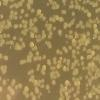white: (7, 85, 16, 96), (14, 42, 23, 52), (88, 0, 100, 7), (30, 25, 39, 34), (44, 20, 52, 30), (0, 65, 8, 75), (50, 72, 61, 79), (58, 91, 66, 100), (54, 15, 64, 22), (9, 78, 16, 88), (74, 0, 80, 11), (28, 19, 34, 30), (55, 48, 63, 56), (32, 80, 40, 88), (72, 58, 80, 66), (72, 68, 80, 76), (58, 84, 66, 92), (77, 38, 86, 45), (64, 90, 70, 100), (45, 41, 52, 49), (62, 22, 70, 29), (85, 21, 92, 29), (6, 41, 14, 48), (85, 37, 92, 45), (5, 93, 13, 100), (64, 80, 72, 87), (68, 86, 75, 94), (90, 73, 98, 80), (52, 4, 61, 10), (49, 17, 58, 23), (18, 60, 27, 66), (33, 56, 42, 62), (91, 45, 100, 51), (91, 64, 97, 73), (93, 53, 100, 60), (79, 31, 86, 38), (22, 85, 29, 92), (36, 8, 42, 16), (57, 29, 63, 37), (89, 18, 97, 24), (45, 58, 51, 66), (84, 48, 92, 54), (29, 75, 35, 83), (42, 30, 47, 39), (64, 34, 73, 39), (27, 55, 32, 64), (52, 56, 57, 65), (2, 0, 8, 7), (61, 9, 67, 16), (60, 0, 66, 7), (94, 7, 100, 14), (20, 30, 27, 36), (40, 16, 47, 22), (35, 50, 41, 57), (31, 45, 38, 51), (56, 59, 63, 65), (85, 54, 92, 60), (93, 29, 100, 35), (27, 68, 34, 74), (88, 62, 95, 68), (90, 90, 97, 96), (0, 40, 5, 48), (29, 41, 34, 49), (49, 0, 57, 5), (69, 0, 73, 10), (81, 65, 89, 70), (65, 57, 70, 65), (2, 80, 7, 88), (18, 82, 23, 90), (87, 69, 92, 77), (30, 9, 36, 15), (24, 12, 30, 18), (13, 3, 19, 9), (12, 15, 18, 21), (86, 12, 92, 18), (84, 8, 90, 14), (32, 16, 38, 22), (78, 20, 84, 26), (80, 60, 86, 66), (80, 56, 86, 62), (92, 34, 98, 40), (66, 64, 70, 73), (40, 70, 46, 76), (41, 64, 47, 70), (39, 78, 45, 84), (34, 88, 40, 94), (74, 80, 80, 86), (87, 93, 93, 99), (94, 94, 100, 100), (96, 68, 100, 77), (20, 8, 25, 15), (18, 1, 23, 8), (29, 32, 34, 39), (74, 32, 79, 39), (44, 83, 49, 90), (7, 19, 11, 27), (1, 26, 5, 34), (72, 39, 76, 47), (62, 65, 66, 73), (36, 64, 40, 72), (76, 86, 80, 94), (45, 2, 50, 8), (28, 0, 34, 5), (18, 38, 24, 43), (47, 34, 52, 40), (35, 34, 41, 39), (68, 30, 74, 35), (63, 47, 68, 53), (4, 55, 9, 61), (42, 54, 47, 60), (57, 55, 63, 60), (62, 57, 67, 63), (25, 93, 30, 99), (88, 80, 93, 86), (94, 88, 99, 94), (22, 42, 26, 49), (22, 20, 29, 24), (72, 18, 76, 25), (29, 50, 33, 57), (50, 66, 57, 70), (8, 0, 17, 3), (9, 11, 14, 16), (9, 16, 14, 21), (72, 54, 77, 59), (52, 80, 57, 85), (37, 95, 42, 100), (37, 91, 42, 96), (78, 76, 83, 81), (0, 14, 4, 20), (26, 4, 30, 10), (19, 15, 23, 21), (14, 10, 18, 16), (14, 23, 18, 29), (13, 36, 17, 42), (53, 26, 57, 32), (81, 6, 85, 12), (82, 0, 90, 3), (74, 24, 80, 28), (56, 64, 62, 68), (64, 40, 70, 44), (82, 46, 86, 52), (91, 50, 95, 56), (0, 85, 3, 93), (22, 90, 26, 96), (39, 84, 45, 88), (70, 64, 74, 70), (72, 77, 76, 83), (74, 96, 80, 100), (92, 84, 96, 90), (0, 53, 3, 60), (9, 5, 14, 9), (19, 24, 23, 29), (0, 20, 4, 25), (49, 30, 53, 35), (72, 12, 76, 17), (23, 24, 27, 29), (24, 28, 29, 32), (68, 45, 72, 50), (72, 49, 76, 54), (94, 25, 98, 30), (29, 91, 33, 96), (32, 95, 36, 100), (72, 92, 76, 97), (83, 95, 87, 100), (0, 34, 3, 40), (4, 34, 7, 40), (15, 84, 18, 90), (85, 84, 88, 90), (81, 26, 85, 30), (36, 39, 40, 43), (76, 46, 80, 50), (48, 90, 52, 94), (96, 84, 100, 88), (0, 1, 2, 8), (21, 0, 25, 3), (7, 34, 10, 38), (70, 21, 73, 25), (97, 20, 100, 24), (87, 32, 90, 36), (0, 76, 2, 82), (98, 35, 100, 41), (85, 76, 88, 80), (96, 18, 99, 20)
